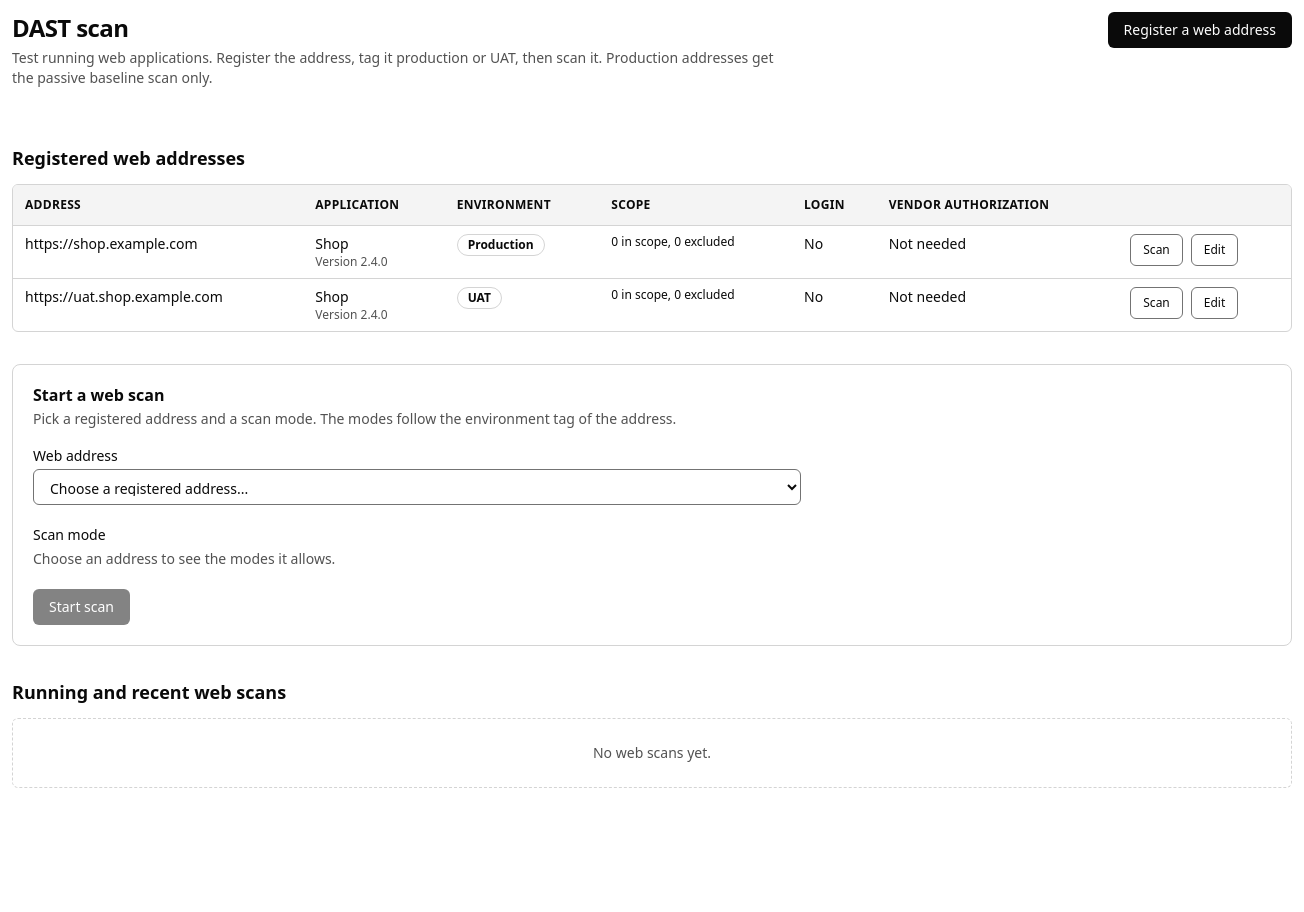
Scenario: DastPage scan form › drops a chosen mode when the next address does not allow it
Step 1. Select "Shop - https://uat.shop.example.com (UAT)" in the dropdown labelled "Web address" → [417, 486], box [33,468,801,504]
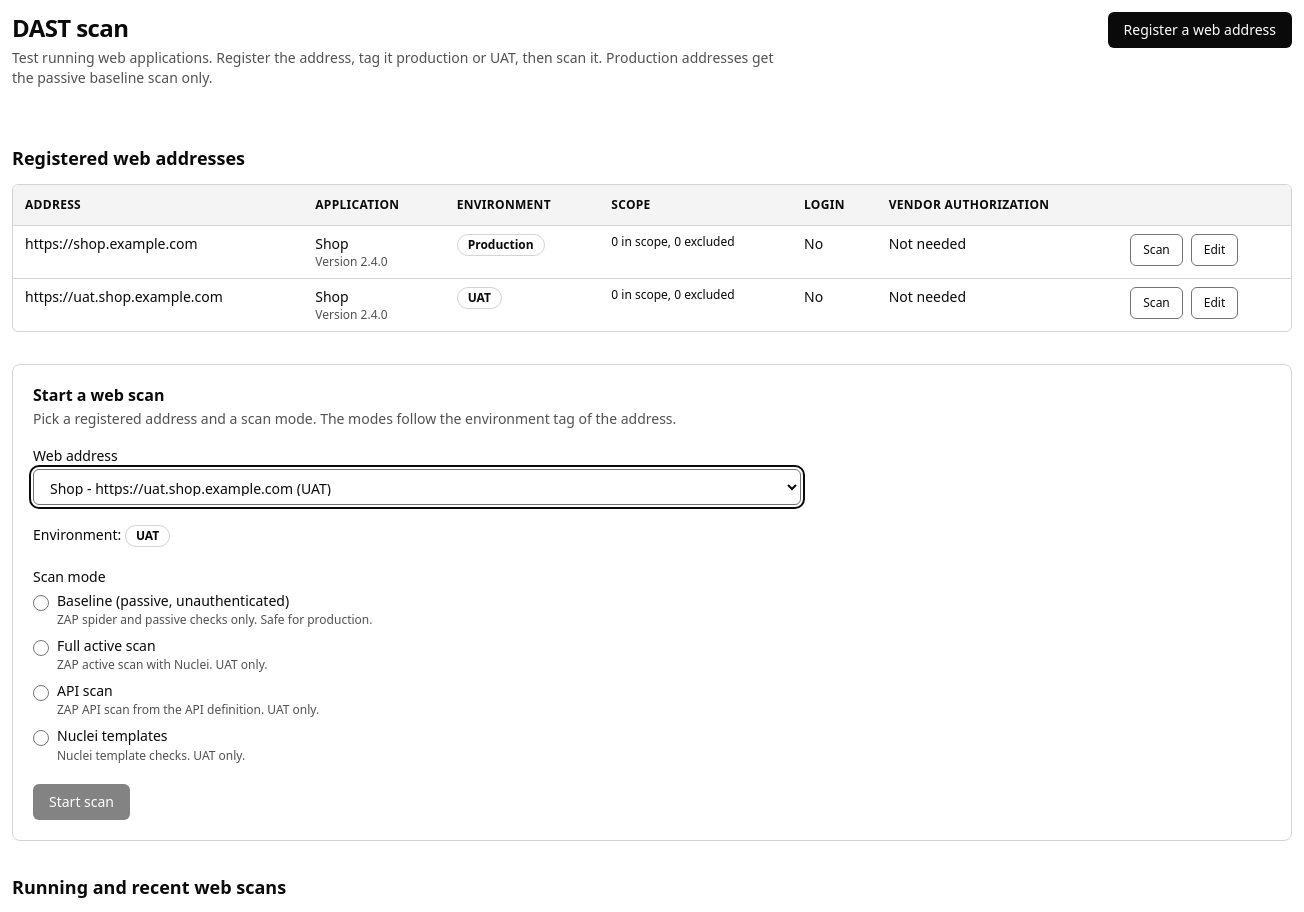
Step 2. Click the radio button labelled "Full active scan" → [41, 648], box [33,640,49,656]
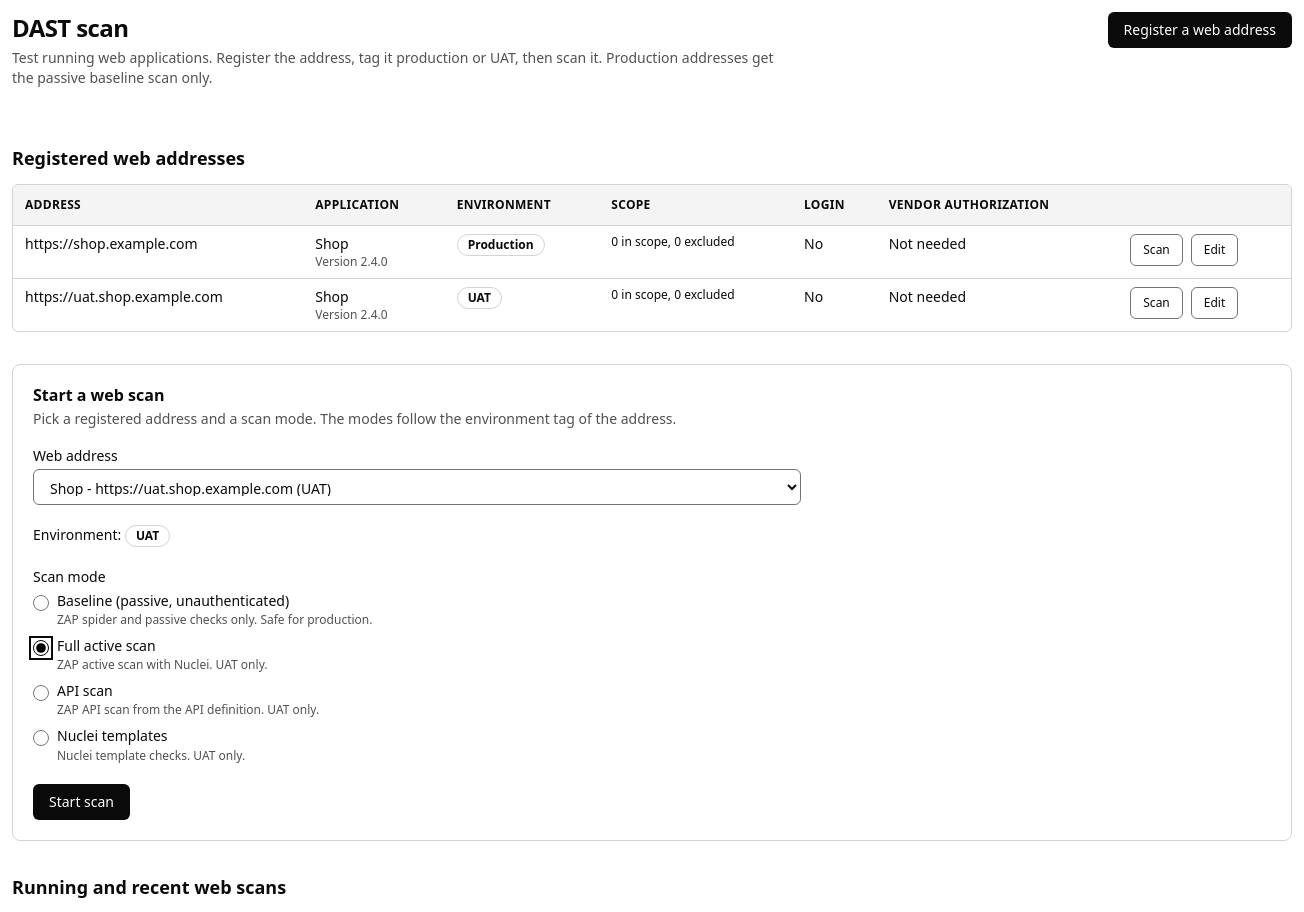
Now the button "Start scan" is enabled, box [33,784,130,820]
Step 3. Select "Shop - https://shop.example.com (Production)" in the dropdown labelled "Web address" → [417, 486], box [33,468,801,504]
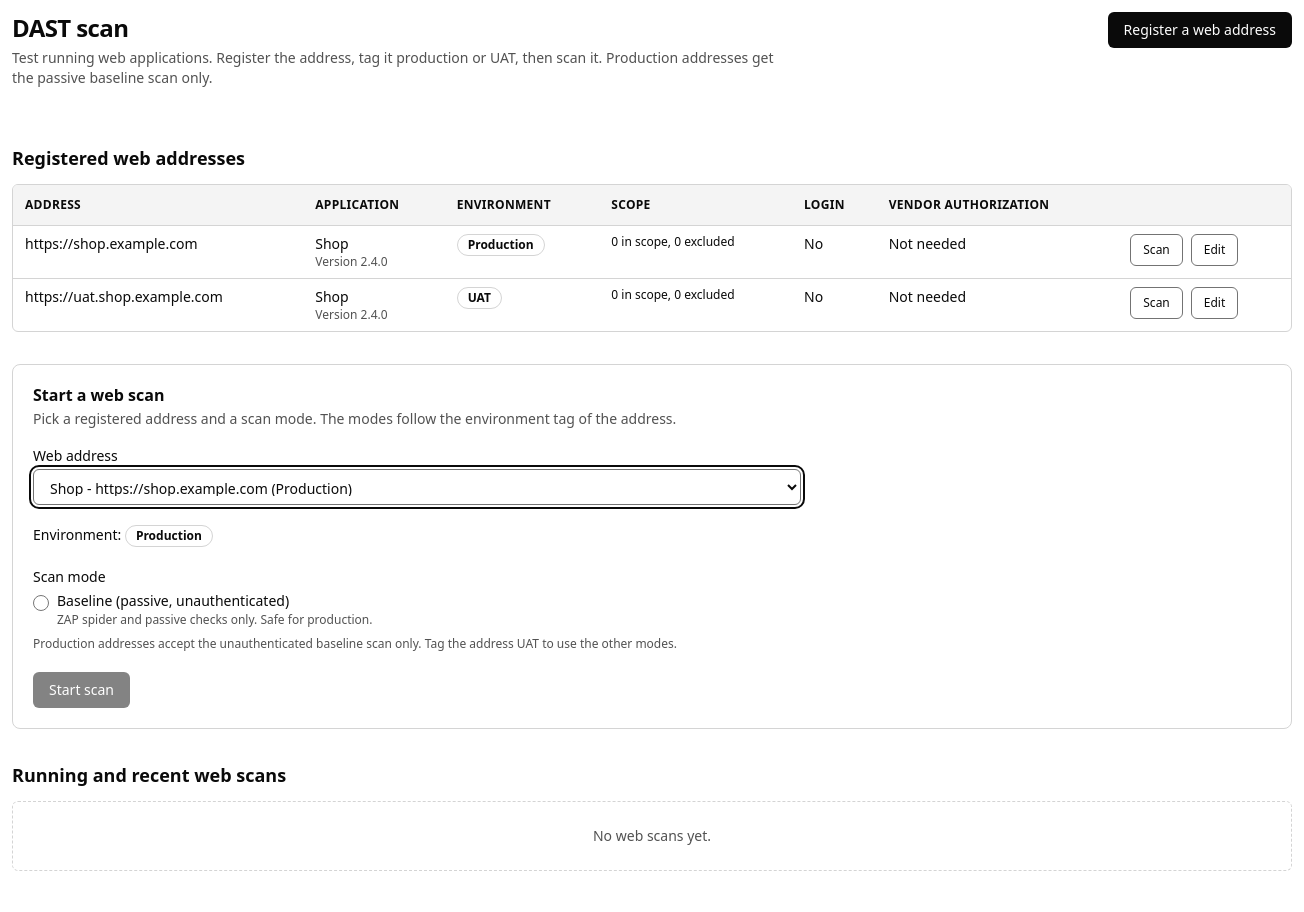
Now the button "Start scan" is disabled, box [33,672,130,708]
